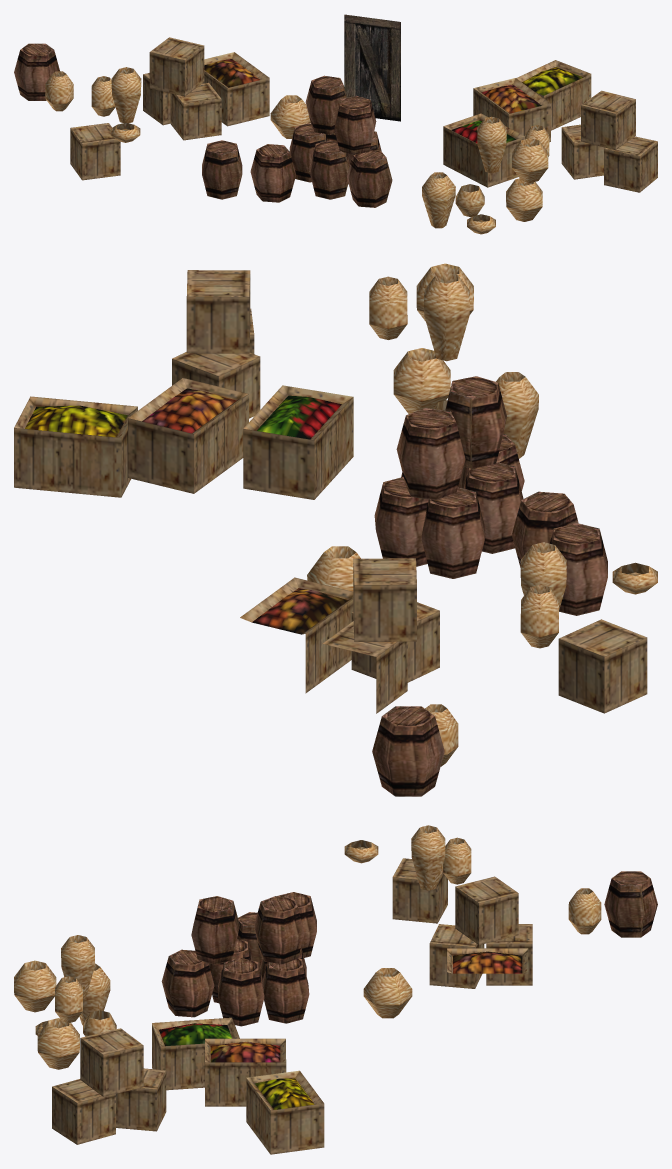
File: celt_market2_props_1.glb
3 views of the same model, one above another, from view 1: azimuth 30°, elevation 25°; view 2: azimuth 150°, elevation 25°; view 3: azimuth 270°, elevation 25° (orthographic). The views are drawn at different scales.
Visible parts, largest first — view 1: civilian_celt_prop; view 2: civilian_celt_prop; view 3: civilian_celt_prop.
Part boxes in pixels (x1,y1,x2,y2): civilian_celt_prop: [14, 14, 657, 234]; civilian_celt_prop: [14, 263, 657, 796]; civilian_celt_prop: [14, 825, 657, 1154].
Size of the model in its own units: 19.51 by 4.11 by 20.86.
Materials: 1 (1 with a texture image).
